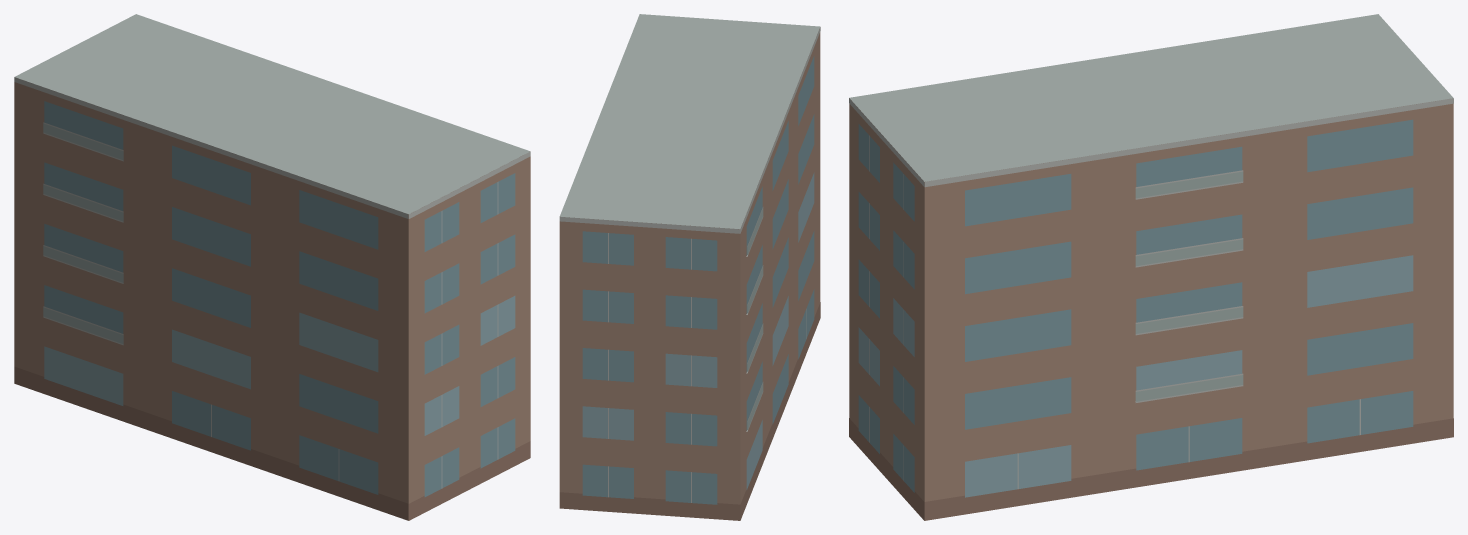
The model's file is survey-upis-32848337.glb.
3 renders of one model, left to right at view 1: azimuth 30°, elevation 25°; view 2: azimuth 150°, elevation 25°; view 3: azimuth 270°, elevation 25°, orthographic. The views are drawn at different scales.
Parts seen in each view (by area): view 1: survey-upis-32848337.tmp; view 2: survey-upis-32848337.tmp; view 3: survey-upis-32848337.tmp.
Boxes of the visible parts, left/top/right/bottom form: survey-upis-32848337.tmp: left=14, top=14, right=530, bottom=520; survey-upis-32848337.tmp: left=559, top=14, right=820, bottom=520; survey-upis-32848337.tmp: left=849, top=14, right=1453, bottom=520.
Size of the model in its own units: 16.21 by 15.25 by 24.66.
